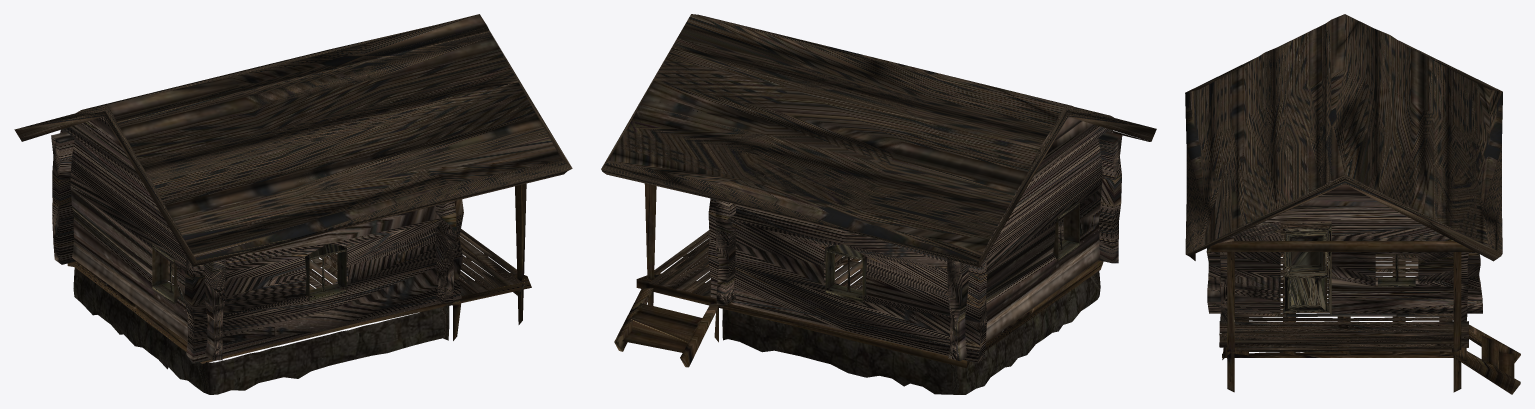
The model's file is log-cabin-y90.far.glb.
The picture shows the model from 3 angles, left to right: view 1: azimuth 30°, elevation 25°; view 2: azimuth 150°, elevation 25°; view 3: azimuth 270°, elevation 25°; orthographic projection. The views are drawn at different scales.
Visible parts, largest first — view 1: Object_10, Object_9, Object_8, Object_7, Object_6, Object_4, Object_5; view 2: Object_10, Object_9, Object_8, Object_7, Object_6, Object_4, Object_5; view 3: Object_10, Object_8, Object_4, Object_6, Cabin_Door_3, Object_9, Object_5, Object_7.
Boxes of the visible parts, x1,y1,x2,y2 form: Object_10: (14,14,572,266); Object_9: (51,132,463,363); Object_8: (60,114,456,360); Object_7: (73,264,449,394); Object_6: (67,183,531,363); Object_4: (168,229,521,295); Object_5: (152,244,346,303); Object_10: (601,14,1156,267); Object_9: (708,131,1122,363); Object_8: (715,117,1113,361); Object_7: (722,271,1100,394); Object_6: (614,183,1103,368); Object_4: (649,230,862,296); Object_5: (825,201,1079,302); Object_10: (1185,14,1502,261); Object_8: (1206,175,1482,313); Object_4: (1219,221,1468,351); Object_6: (1210,224,1520,394); Cabin_Door_3: (1284,231,1327,311); Object_9: (1219,236,1468,321); Object_5: (1283,222,1415,314); Object_7: (1220,224,1467,352).
Size of the model in its own units: 8.85 by 5.82 by 7.7.
Materials: 8 (7 with a texture image).
